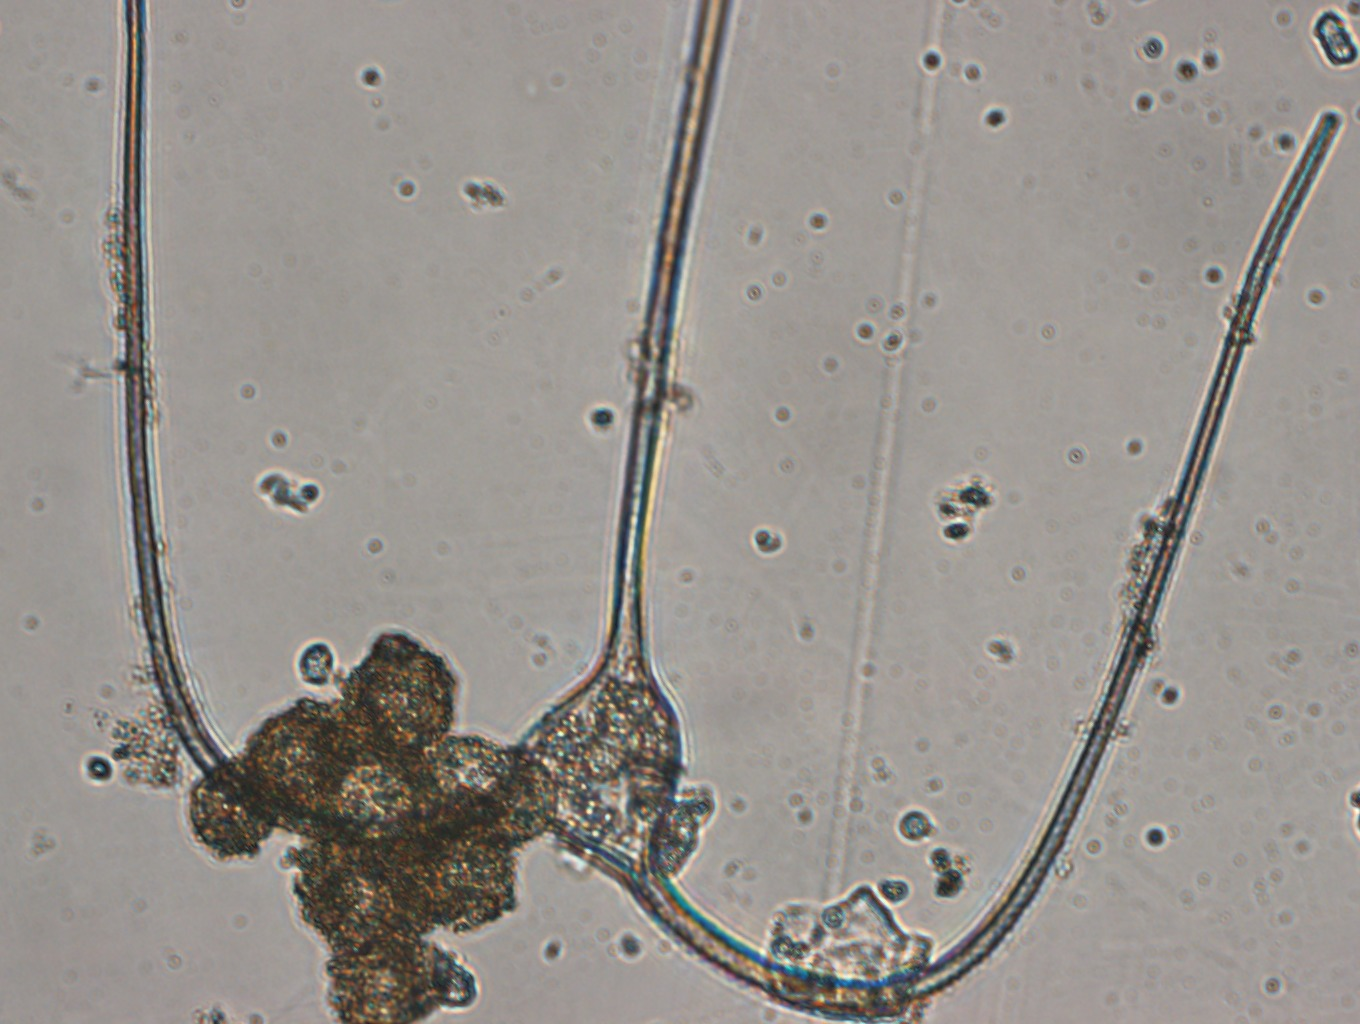ceratium trichoceros: (121, 2, 1338, 1015)
